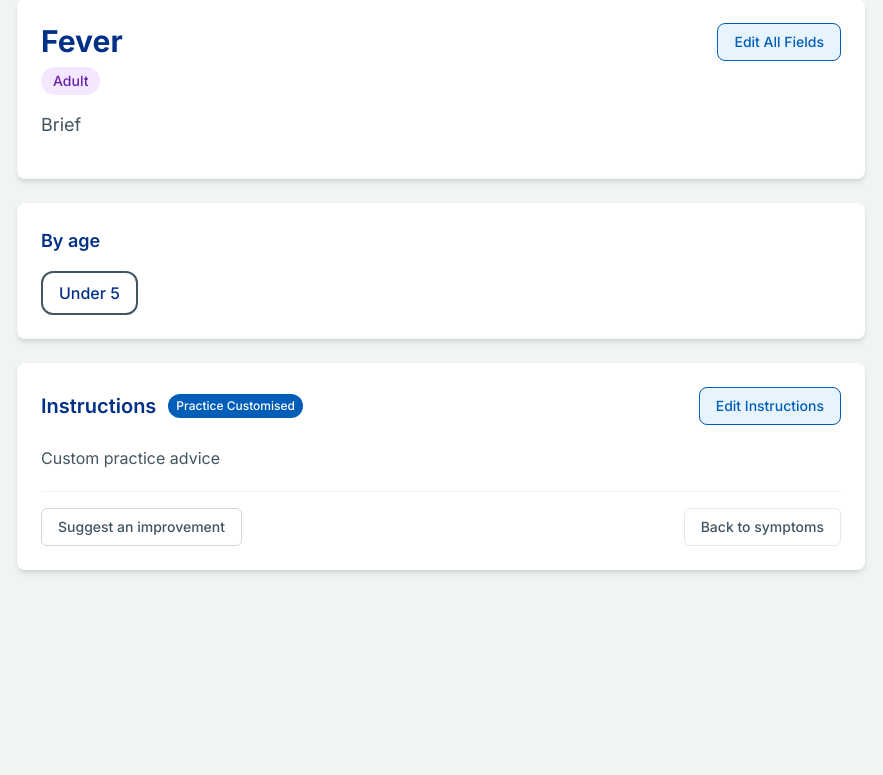
Test: InstructionView variants › shows the practice panel but not the shared panel to practice admins
Click the button "Edit All Fields": (779, 42) [717,23,841,61]
(page scrolled)
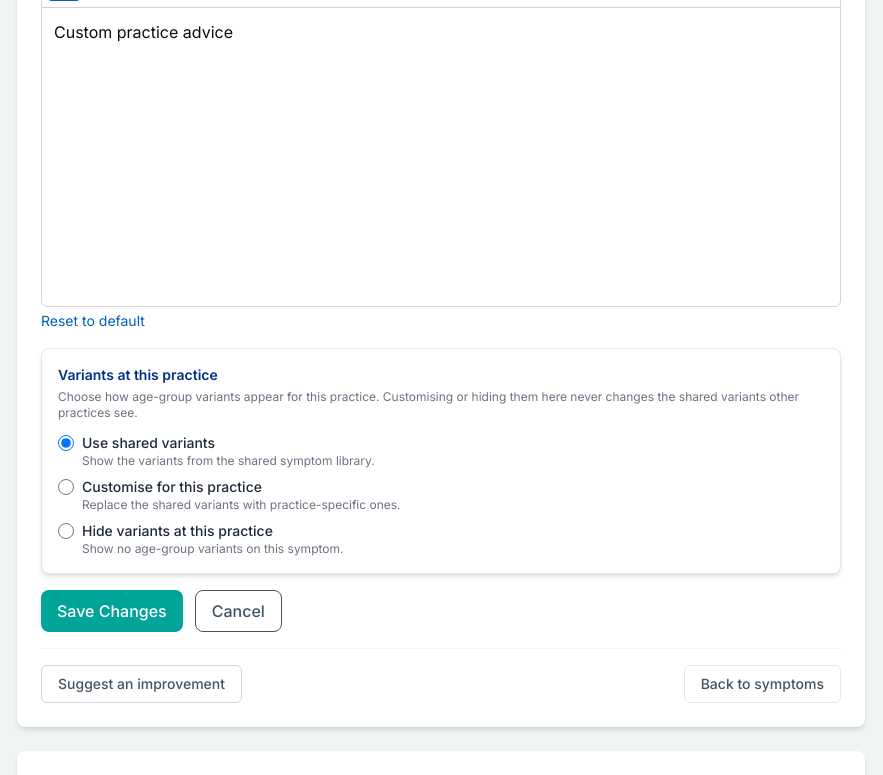
Expected: the heading "Variants at this practice" is shown, [58,366,218,383]
